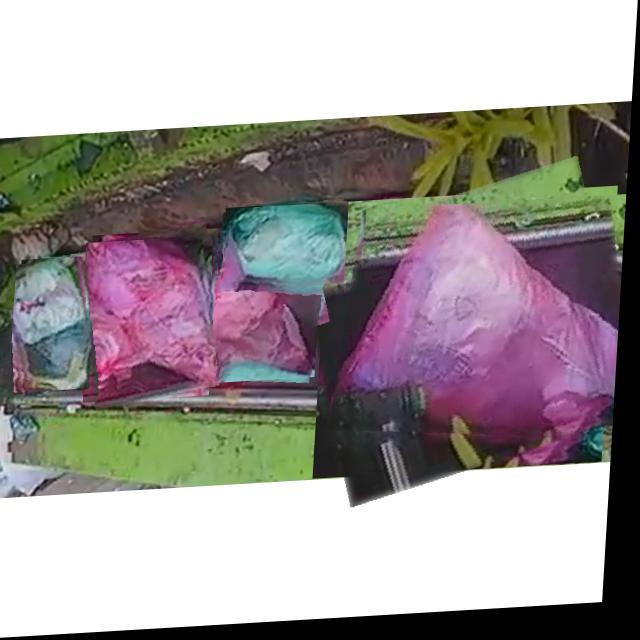general_trashbag: (17, 261, 92, 390), (231, 208, 349, 289)
other_trashbag: (340, 210, 623, 444), (87, 241, 220, 389), (171, 276, 316, 378)
